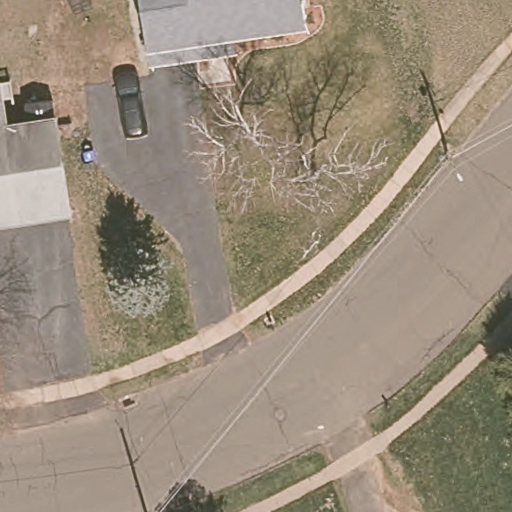DT: (442, 145, 464, 183)
